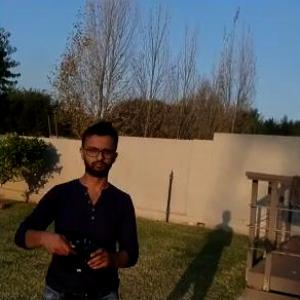follow: (9, 115, 142, 299)
